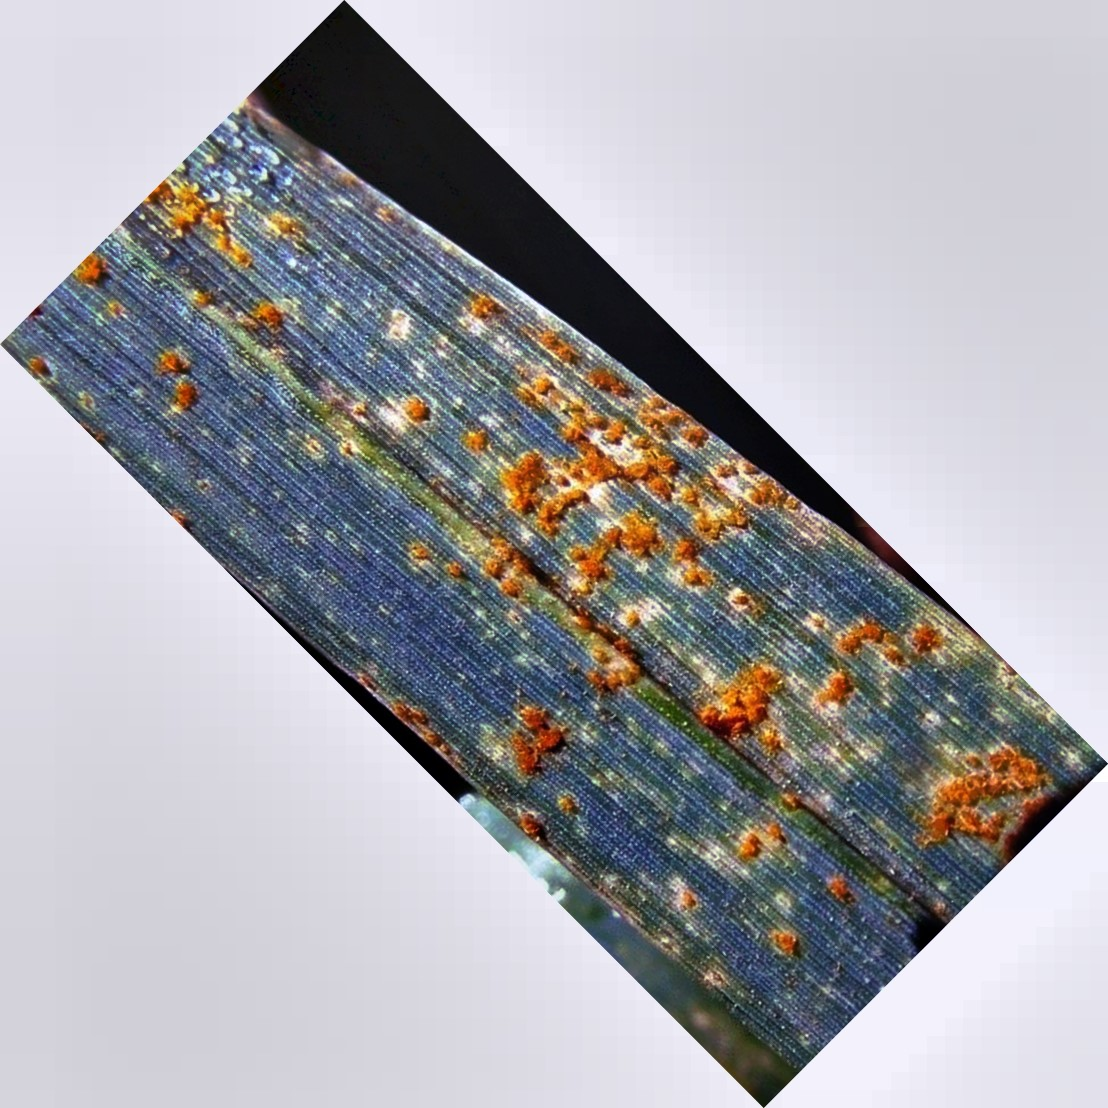Leaf Rust: (371, 285, 1030, 993)
